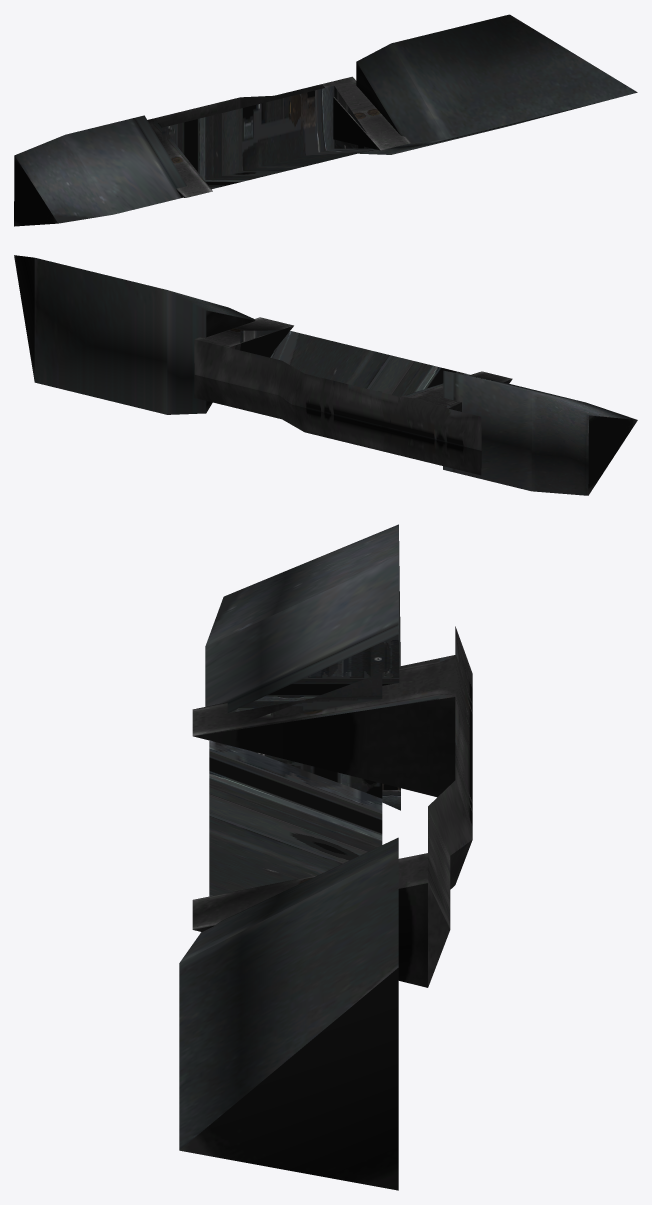
File: t6_wpn_sniper_svu_scope_world_LOD2.obj
3 views of the same model, one above another, from view 1: azimuth 30°, elevation 25°; view 2: azimuth 150°, elevation 25°; view 3: azimuth 270°, elevation 25° (orthographic). The views are drawn at different scales.
Parts seen in each view (by area): view 1: mtl_t6_wpn_sniper_svu_scope, mtl_t6_wpn_sniper_svu_scope_camo2; view 2: mtl_t6_wpn_sniper_svu_scope, mtl_t6_wpn_sniper_svu_scope_camo2; view 3: mtl_t6_wpn_sniper_svu_scope, mtl_t6_wpn_sniper_svu_scope_camo2.
Part boxes in pixels (x1,y1,x2,y2): mtl_t6_wpn_sniper_svu_scope: [14, 14, 637, 226]; mtl_t6_wpn_sniper_svu_scope_camo2: [65, 76, 410, 214]; mtl_t6_wpn_sniper_svu_scope: [14, 255, 637, 495]; mtl_t6_wpn_sniper_svu_scope_camo2: [194, 317, 588, 495]; mtl_t6_wpn_sniper_svu_scope: [179, 524, 472, 1190]; mtl_t6_wpn_sniper_svu_scope_camo2: [192, 541, 455, 929].
Size of the model in its own units: 26.38 by 4.95 by 5.9.
